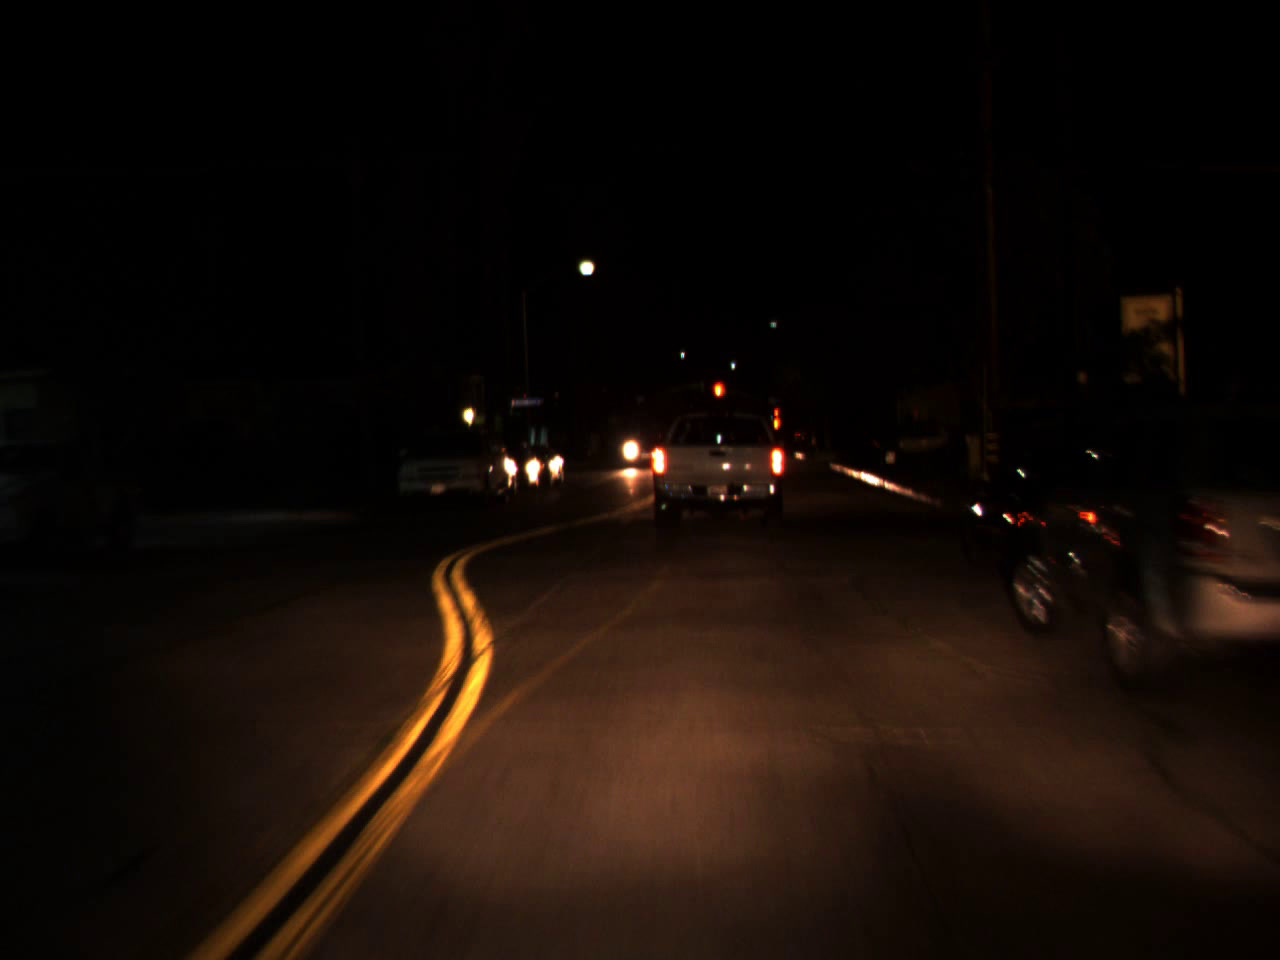stop: (712, 381, 725, 413), (773, 408, 779, 429)
